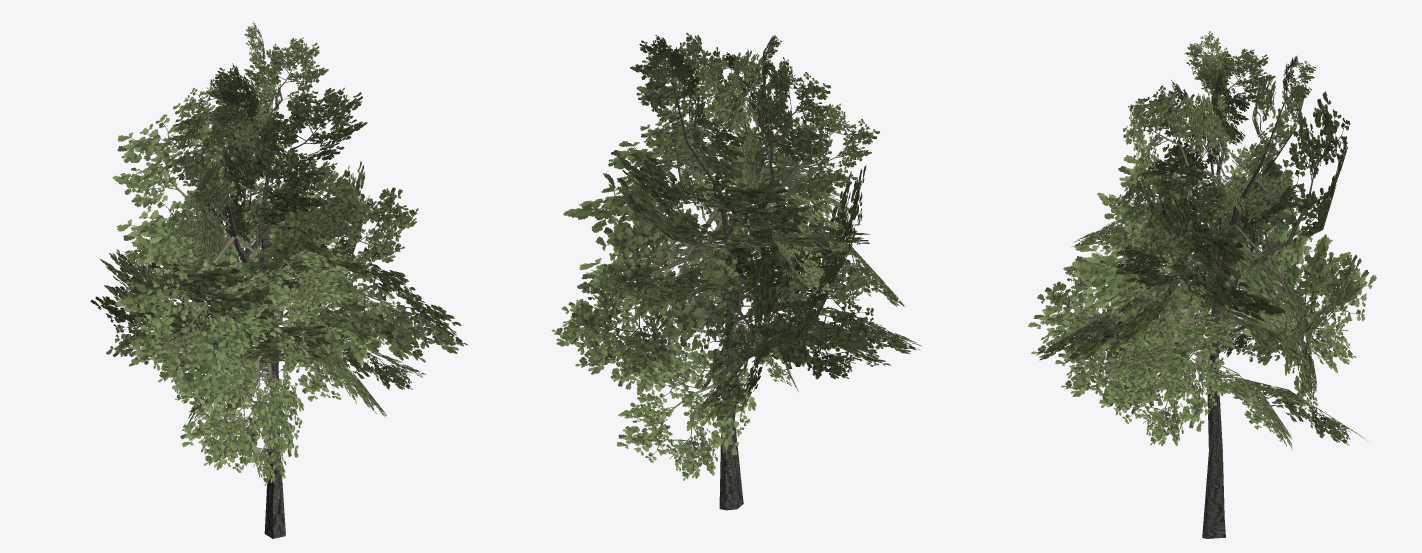
Rendered from Tree-02-3.gltf.
3 renders of one model, left to right at view 1: azimuth 30°, elevation 25°; view 2: azimuth 150°, elevation 25°; view 3: azimuth 270°, elevation 25°, orthographic. The views are drawn at different scales.
Visible parts, largest first — view 1: Tree-02-3; view 2: Tree-02-3; view 3: Tree-02-3.
Part boxes in pixels (x1,y1,x2,y2): Tree-02-3: [90, 21, 467, 538]; Tree-02-3: [551, 32, 921, 510]; Tree-02-3: [1028, 31, 1376, 538].
Size of the model in its own units: 5.57 by 6.85 by 5.27.
3 materials, 3 textured.
